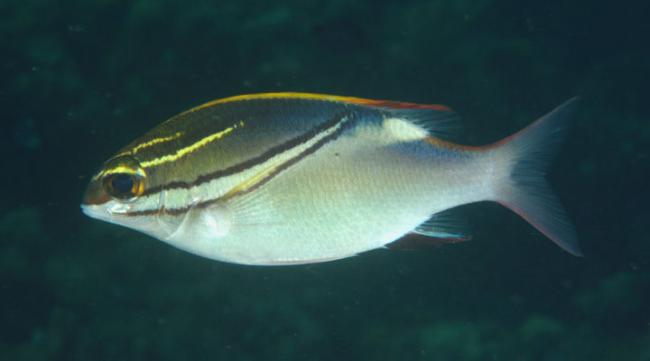fish: (78, 91, 588, 267)
